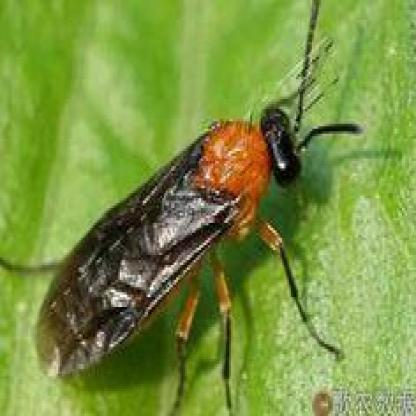sawfly: (31, 0, 366, 416)
